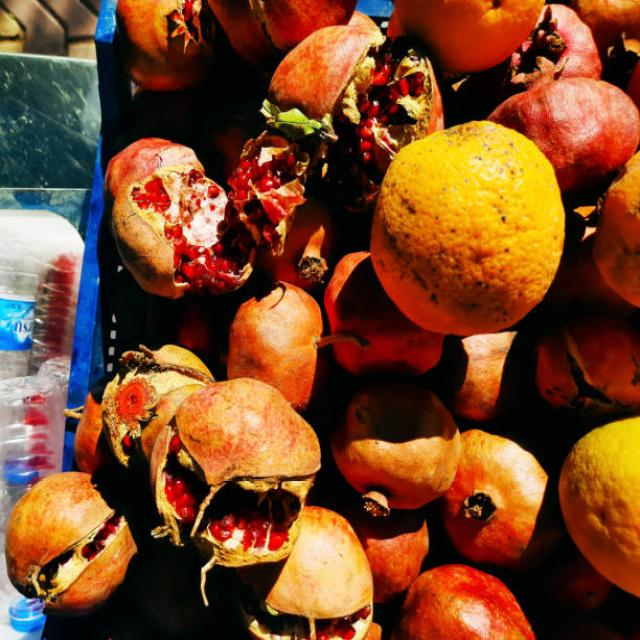overripe: (108, 123, 321, 295), (144, 379, 322, 576), (263, 17, 446, 168), (5, 472, 140, 619)
